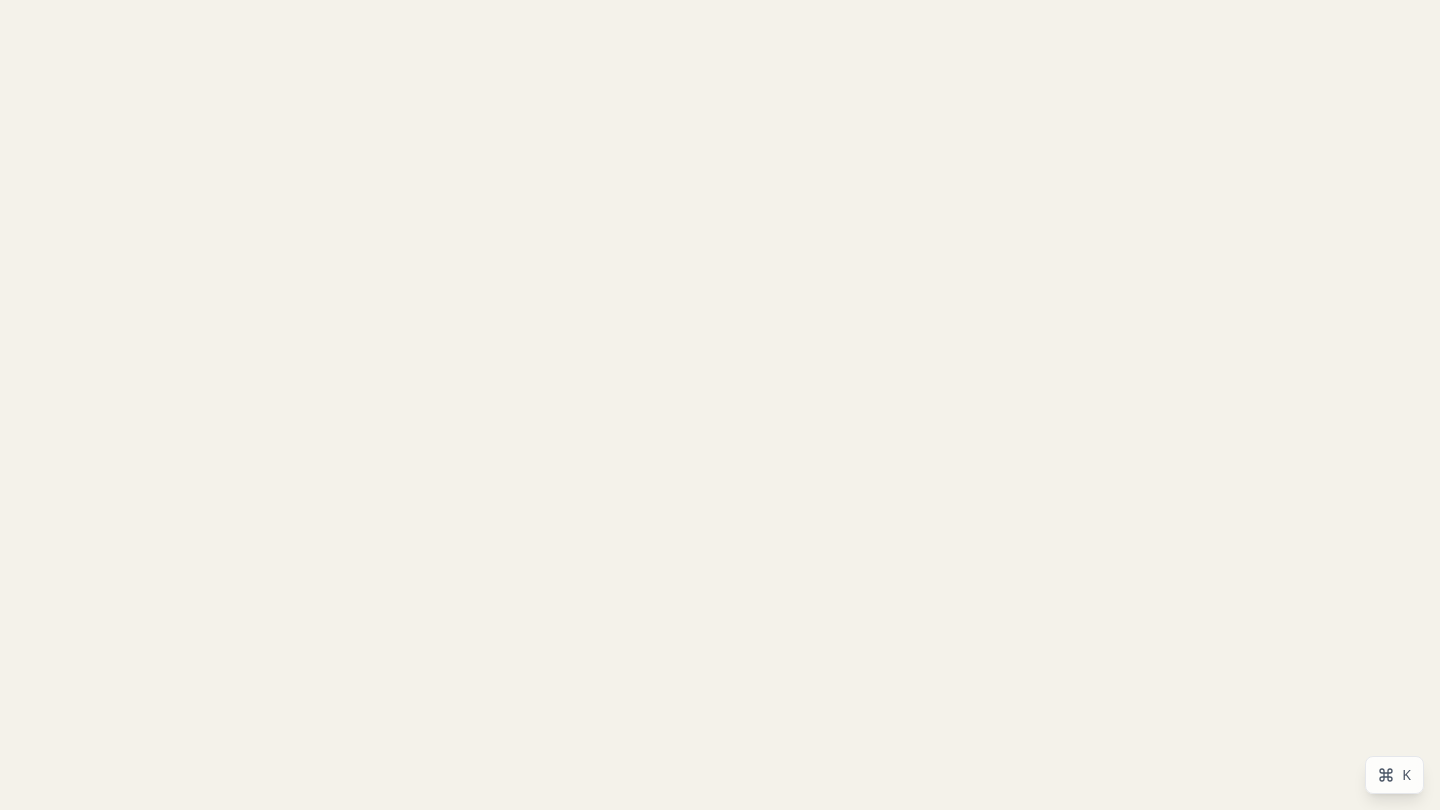
it: CommandPalette › Search Filtering › filters by keywords
Press k
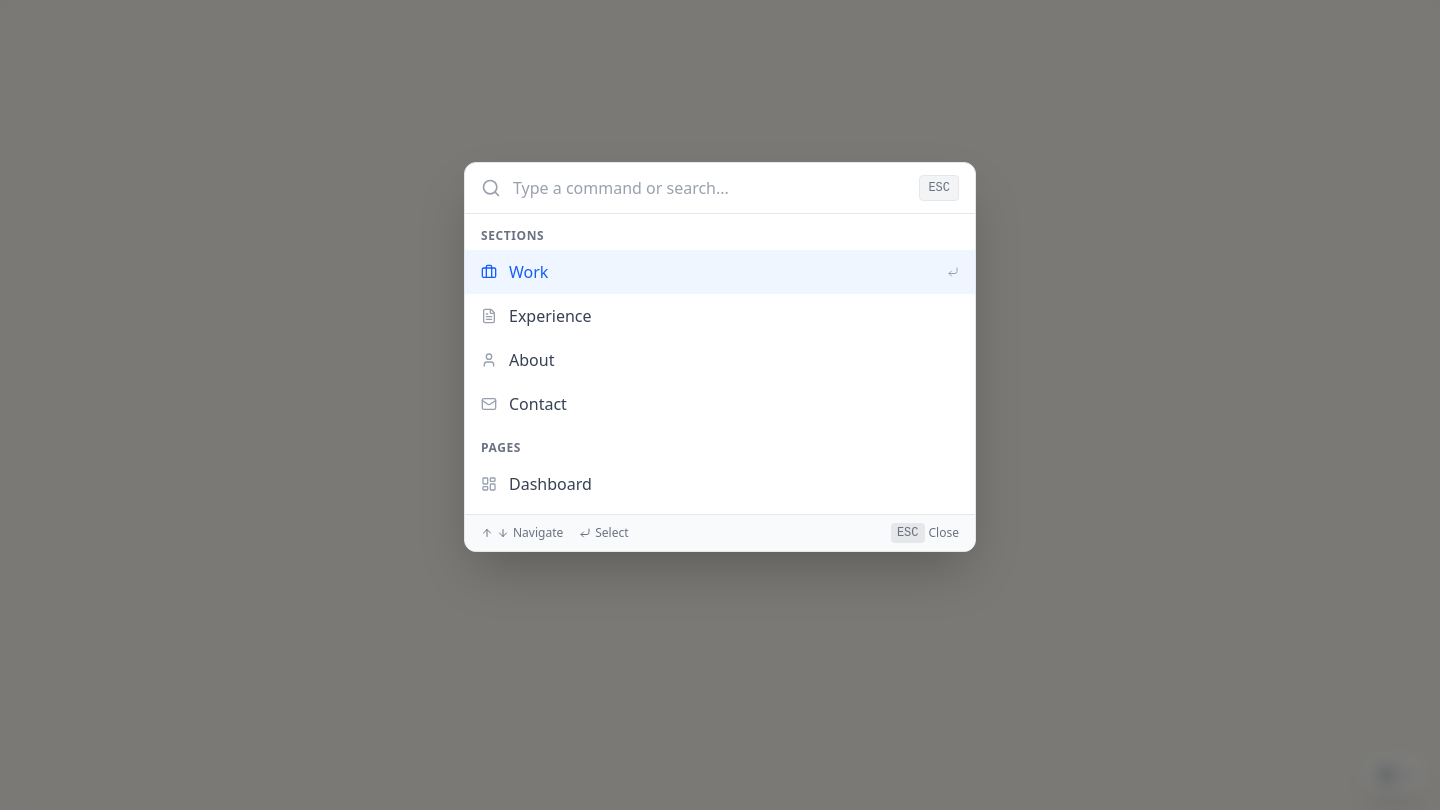
Result: the dialog named "command palette" is shown at [464,162,976,552]
Type "portfolio" into the field named "search commands" at (710, 188), box [513,176,907,200]
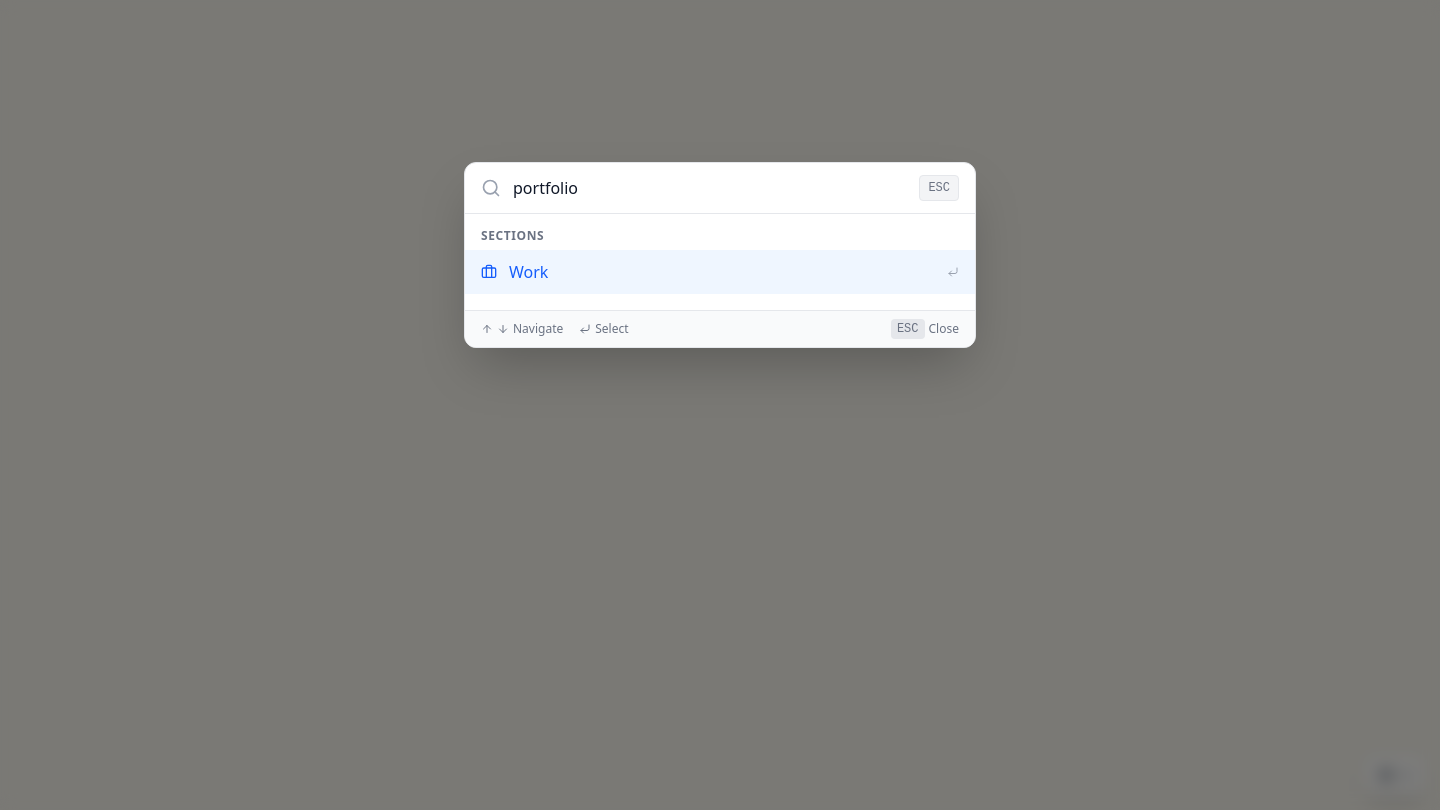
Result: the text "Work" is shown at [509,261,548,283]
Result: the option "About" is gone
